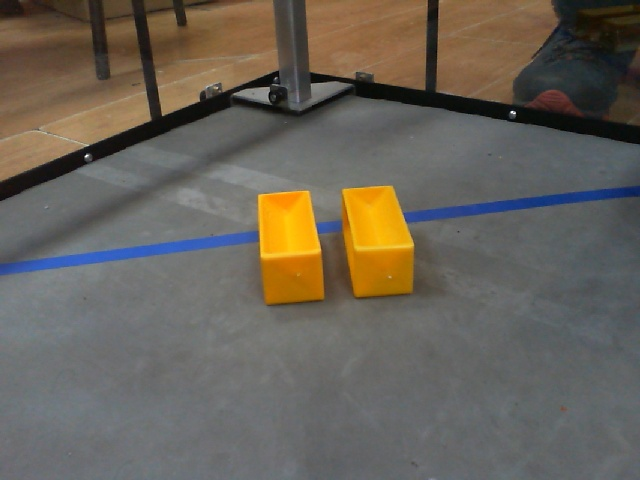YellowSample: (252, 180, 331, 305), (335, 183, 419, 298)
